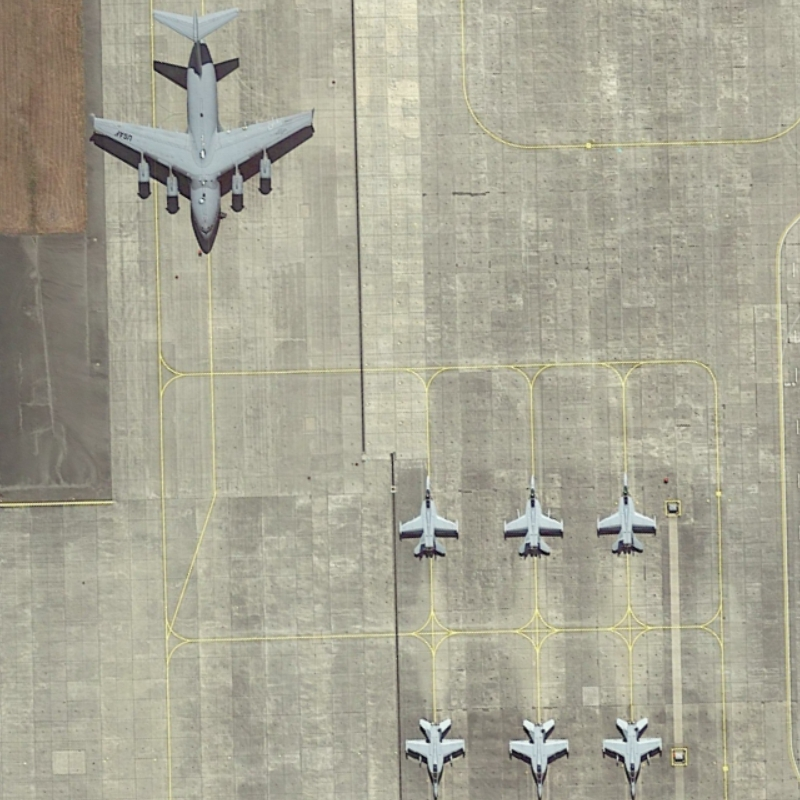A16: (393, 461, 469, 566), (590, 465, 665, 559), (499, 710, 577, 800), (496, 469, 568, 563), (597, 710, 667, 800), (403, 708, 471, 800)
A3: (81, 1, 321, 255)
